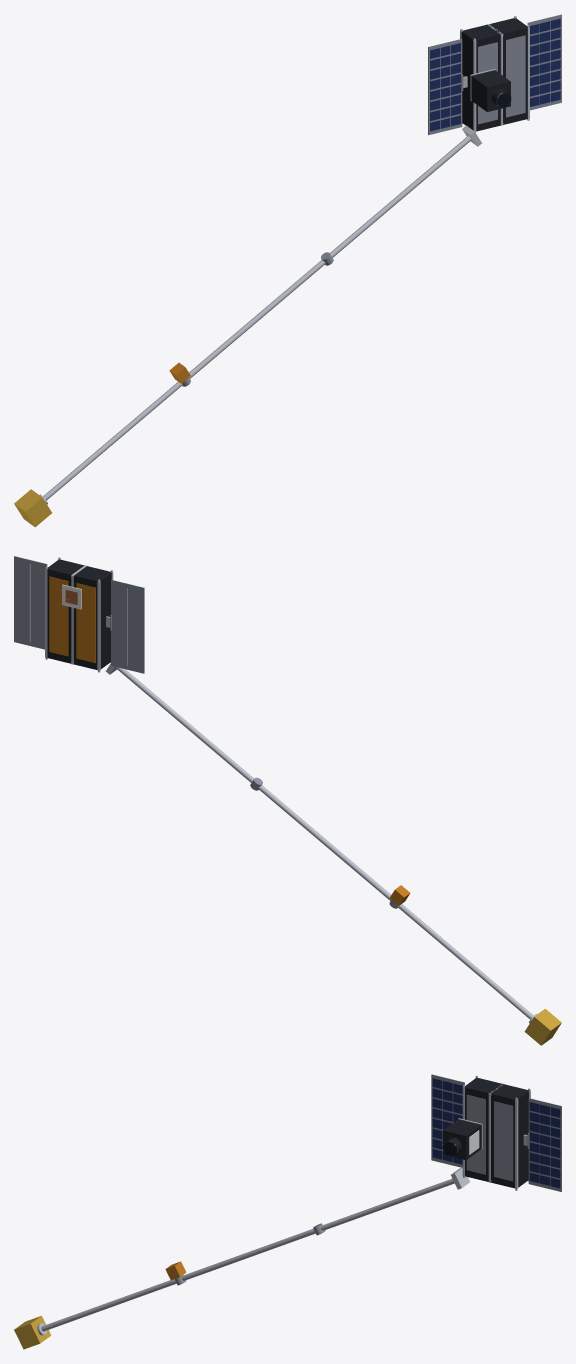
File: ref_s1.glb
The picture shows the model from 3 angles, top to bottom: view 1: azimuth 30°, elevation 25°; view 2: azimuth 150°, elevation 25°; view 3: azimuth 330°, elevation 25°; orthographic projection. The views are drawn at different scales.
Visible parts, largest first — view 1: mag, cube6u_chasis, cube6u, pan30_celdas, pan30_celdas.001, pan30_hoja.001, cubecam_body, pan30_hoja, mag_main_sensor; view 2: cube6u, mag, cube6u_chasis, pan30_hoja.001, pan30_hoja, mag_main_sensor; view 3: cube6u, cube6u_chasis, mag, pan30_celdas, pan30_celdas.001, pan30_hoja, pan30_hoja.001, cubecam_body, mag_main_sensor.
Boxes of the visible parts, x1,y1,x2,y2 form: mag: (43,135,471,500); cube6u_chasis: (461,18,527,131); cube6u: (460,15,529,132); pan30_celdas: (529,18,560,106); pan30_celdas.001: (430,43,460,131); pan30_hoja.001: (428,39,462,135); cubecam_body: (471,70,510,111); pan30_hoja: (527,14,561,110); mag_main_sensor: (14,489,51,527); cube6u: (45,557,113,672); mag: (116,667,533,1019); cube6u_chasis: (47,559,111,669); pan30_hoja.001: (111,579,144,673); pan30_hoja: (14,556,47,649); mag_main_sensor: (524,1008,561,1045); cube6u: (462,1075,530,1190); cube6u_chasis: (465,1078,528,1188); mag: (41,1179,454,1331); pan30_celdas: (529,1102,560,1188); pan30_celdas.001: (432,1078,462,1164); pan30_hoja: (528,1098,561,1191); pan30_hoja.001: (431,1074,464,1167); cubecam_body: (443,1119,481,1159); mag_main_sensor: (14,1315,51,1349).
Size of the model in its own units: 2.22 by 1.45 by 0.257.
